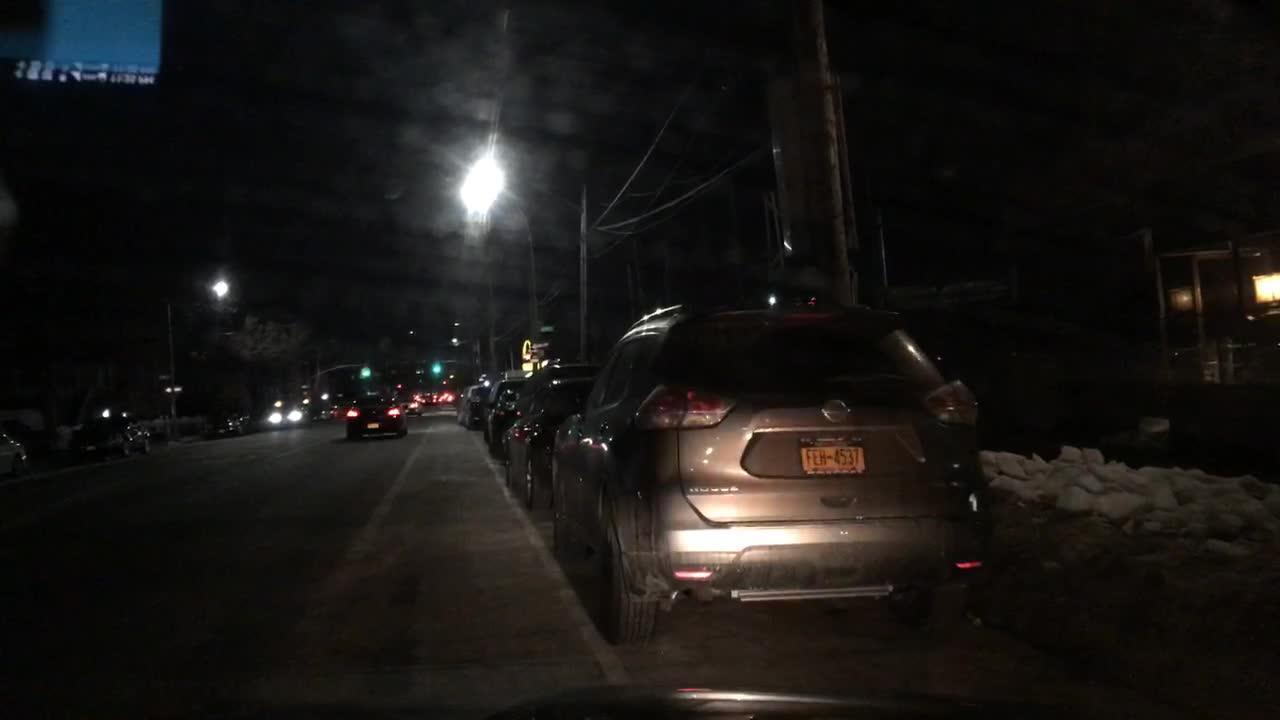Nissan: (808, 386, 865, 430)
